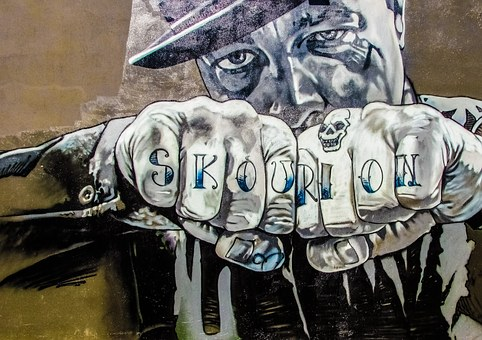fist: (124, 93, 295, 258), (311, 109, 462, 247)
